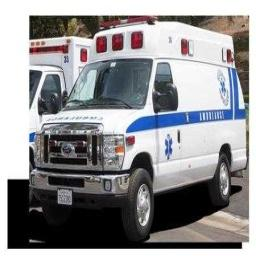ambulance: (30, 17, 246, 240), (29, 37, 91, 170)
